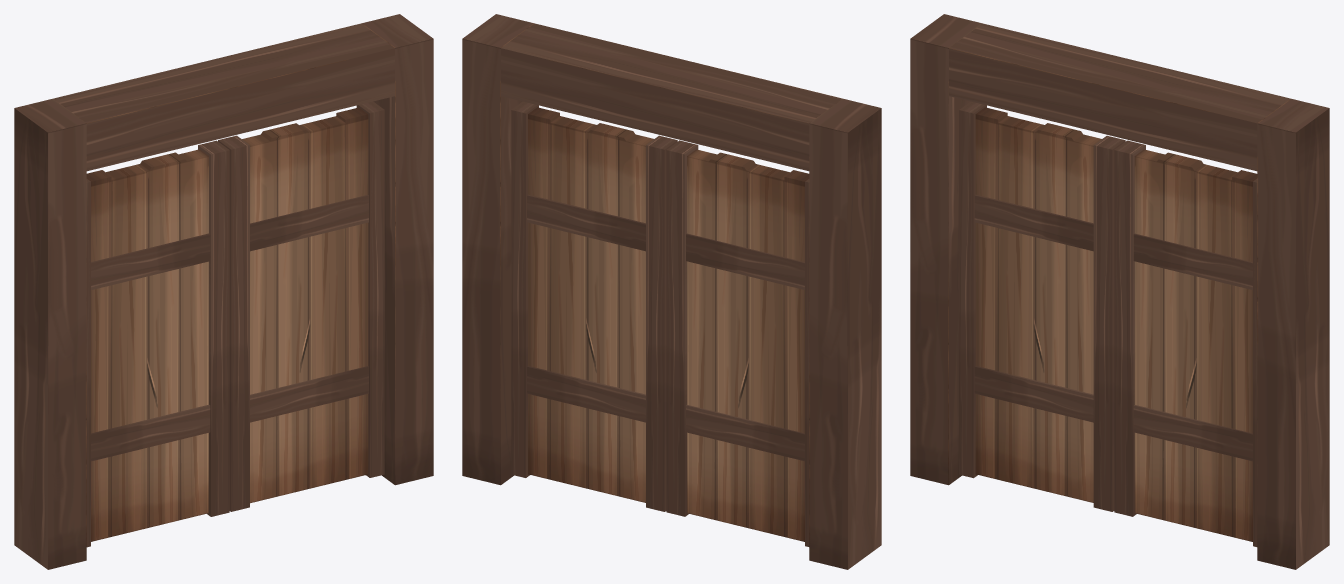
File: big_fence_gate.gltf
3 views of the same model, side by side, from view 1: azimuth 30°, elevation 25°; view 2: azimuth 150°, elevation 25°; view 3: azimuth 330°, elevation 25° (orthographic).
Visible parts, largest first — view 1: BigFenceDoorframe, BigFenceGateRight, BigFenceGateLeft; view 2: BigFenceDoorframe, BigFenceGateRight, BigFenceGateLeft; view 3: BigFenceDoorframe, BigFenceGateLeft, BigFenceGateRight.
Part boxes in pixels (left/top/right/bottom): BigFenceDoorframe: left=14, top=14, right=433, bottom=569; BigFenceGateRight: left=218, top=101, right=384, bottom=511; BigFenceGateLeft: left=86, top=140, right=229, bottom=547; BigFenceDoorframe: left=462, top=14, right=881, bottom=569; BigFenceGateRight: left=511, top=101, right=677, bottom=511; BigFenceGateLeft: left=666, top=140, right=809, bottom=546; BigFenceDoorframe: left=910, top=14, right=1329, bottom=569; BigFenceGateLeft: left=959, top=101, right=1125, bottom=511; BigFenceGateRight: left=1114, top=140, right=1257, bottom=546.
Size of what is drawn, in the model's own units: 2 by 2.17 by 0.3035.
Materials: 1 (1 with a texture image).
